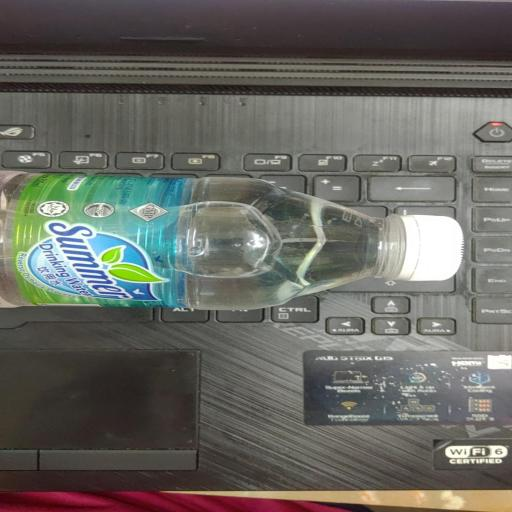plastic bottle: (0, 170, 396, 311)
plastic bottle cap: (390, 212, 466, 283)
